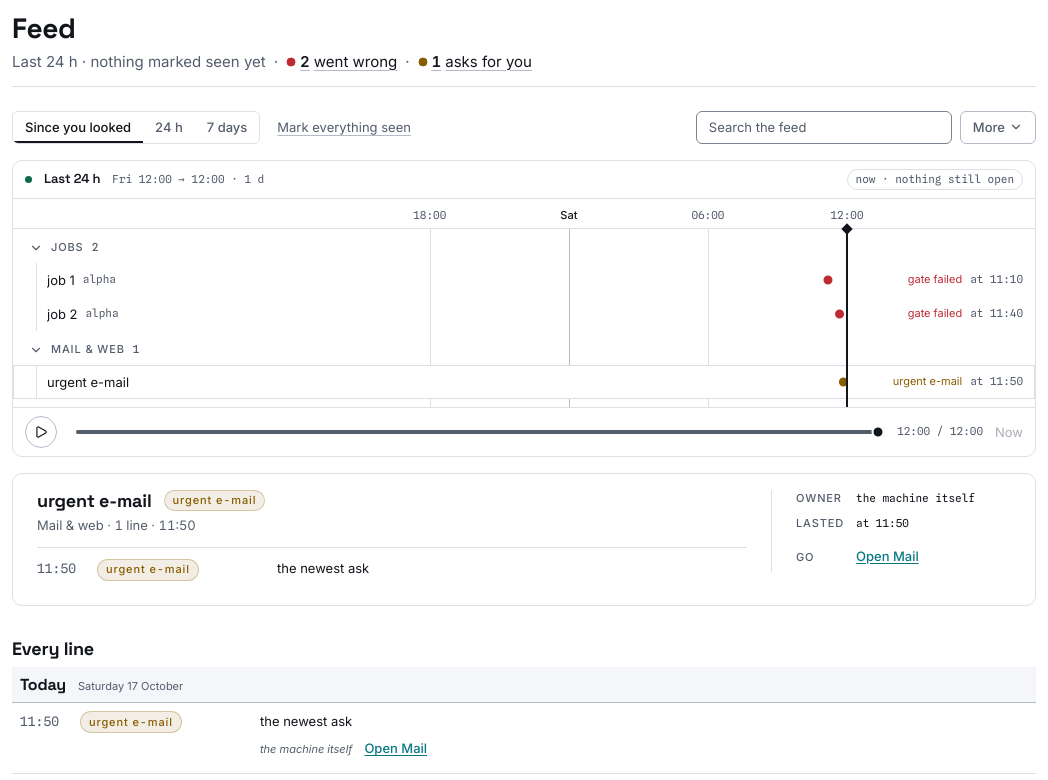
it: Feed - the verdict names the window and what in it wants a look › a count opens the newest sequence it counts
The width and height of the screenshot is (1048, 780).
Check: the heading "urgent e-mail urgent e-mail" is shown, box [37, 489, 265, 512]
Step 1. Click the button "2 went wrong" → point(342, 62), box [286, 50, 397, 74]
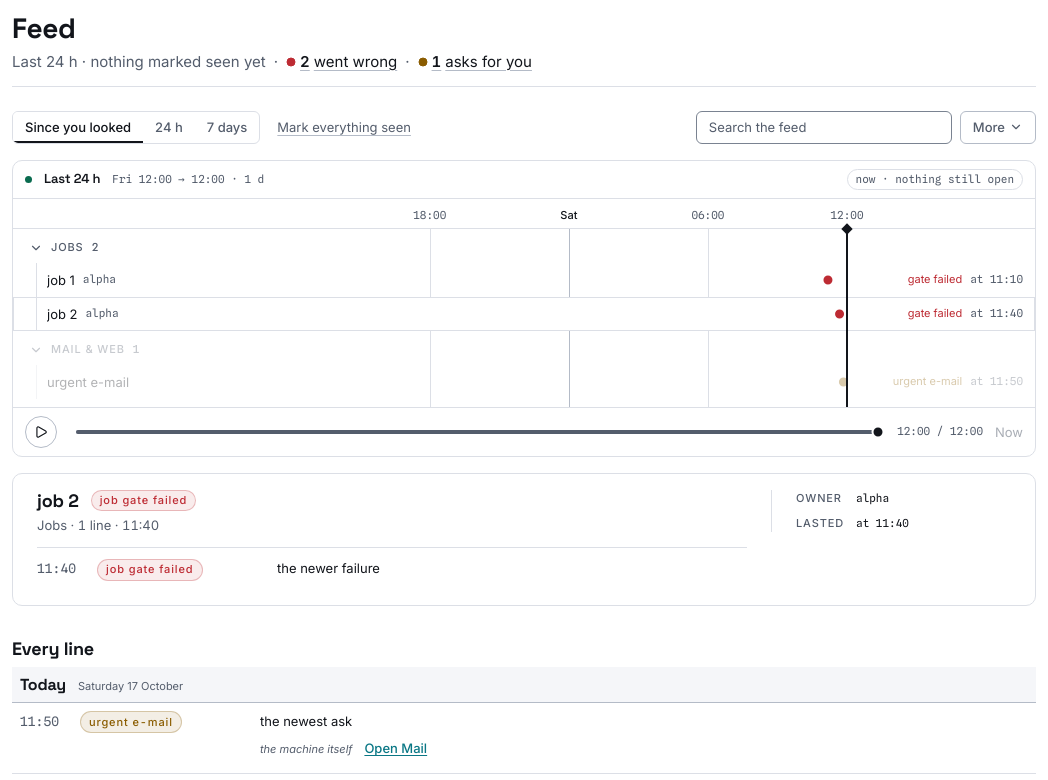
Check: the heading "job 2 job gate failed" is shown, box [37, 489, 196, 512]
